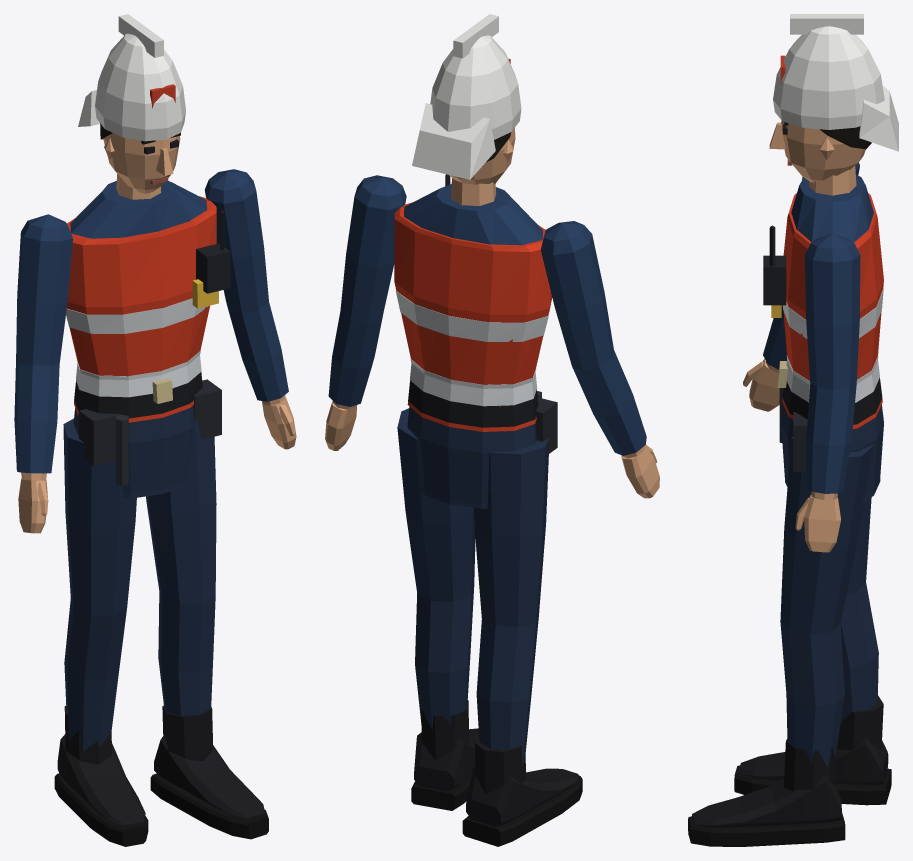
Rendered from HUMAN_07.obj.
The picture shows the model from 3 angles, left to right: view 1: azimuth 30°, elevation 25°; view 2: azimuth 150°, elevation 25°; view 3: azimuth 270°, elevation 25°; orthographic projection. The views are drawn at different scales.
Parts seen in each view (by area): view 1: vest, legwear_R, legwear_L, sleeve_R, sleeve_L, headwear, shoe_L, shoe_R, accessory, pelvis_bottom, torso, belt (+4 smaller); view 2: vest, legwear_R, legwear_L, sleeve_R, headwear, sleeve_L, shoe_R, pelvis_bottom, shoe_L, torso, belt, hand_R (+4 smaller); view 3: legwear_L, sleeve_L, headwear, shoe_L, vest, shoe_R, legwear_R, torso, head, accessory, pelvis_bottom, hand_L (+6 smaller).
Part boxes in pixels (bbox=[...]): vest: bbox=[66, 196, 216, 422]; legwear_R: bbox=[63, 418, 136, 751]; legwear_L: bbox=[146, 420, 216, 715]; sleeve_R: bbox=[14, 214, 72, 473]; sleeve_L: bbox=[204, 169, 288, 401]; headwear: bbox=[78, 14, 185, 141]; shoe_L: bbox=[150, 705, 268, 839]; shoe_R: bbox=[54, 706, 148, 846]; accessory: bbox=[79, 210, 230, 485]; pelvis_bottom: bbox=[73, 405, 194, 498]; torso: bbox=[70, 181, 207, 238]; belt: bbox=[74, 372, 202, 418]; vest: bbox=[394, 202, 552, 431]; legwear_R: bbox=[474, 438, 548, 768]; legwear_L: bbox=[397, 408, 475, 730]; sleeve_R: bbox=[541, 221, 646, 455]; headwear: bbox=[412, 14, 521, 179]; sleeve_L: bbox=[328, 175, 406, 406]; shoe_R: bbox=[462, 736, 582, 846]; pelvis_bottom: bbox=[407, 406, 536, 508]; shoe_L: bbox=[411, 700, 478, 810]; torso: bbox=[404, 184, 542, 245]; belt: bbox=[408, 380, 538, 427]; hand_R: bbox=[621, 445, 659, 498]; legwear_L: bbox=[780, 436, 873, 767]; sleeve_L: bbox=[804, 233, 860, 493]; headwear: bbox=[773, 14, 898, 151]; shoe_L: bbox=[688, 739, 845, 846]; vest: bbox=[782, 193, 883, 428]; shoe_R: bbox=[734, 695, 891, 805]; legwear_R: bbox=[840, 497, 878, 721]; torso: bbox=[791, 174, 873, 242]; head: bbox=[781, 120, 865, 182]; accessory: bbox=[763, 225, 807, 471]; pelvis_bottom: bbox=[781, 404, 883, 502]; hand_L: bbox=[795, 495, 840, 552].
Bounding box in the file's own units: 0.7279 × 1.83 × 0.4393.
